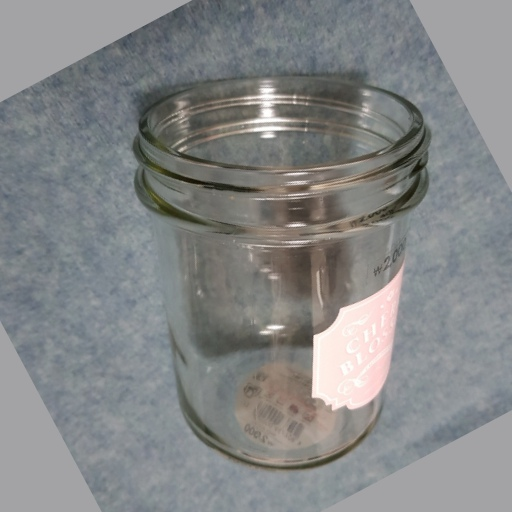Glass_5: (137, 73, 434, 468)
